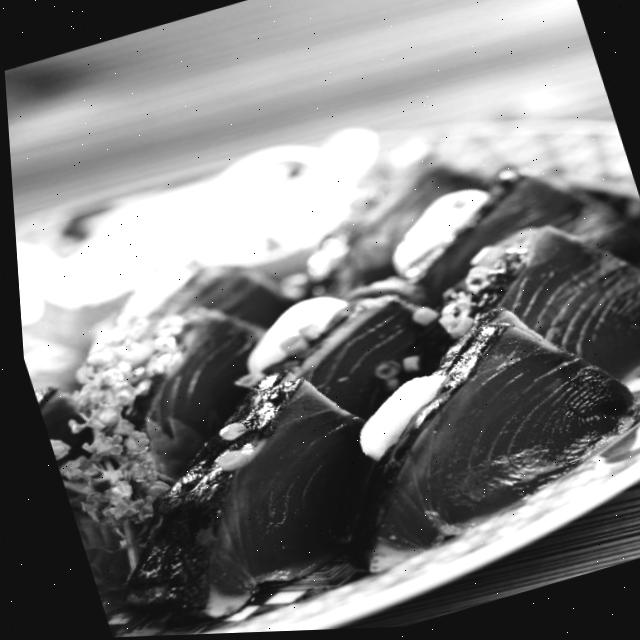熟制海鲜: (4, 59, 640, 640)
